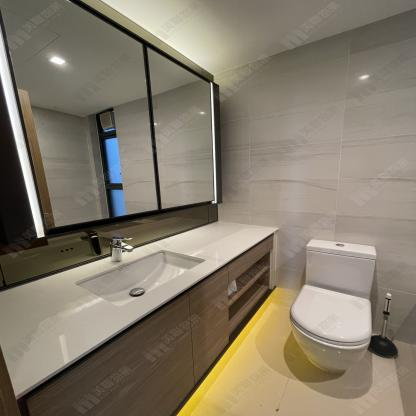Faucet: (108, 235, 134, 262)
Toilet: (289, 239, 377, 372)
Toilet Sink: (42, 241, 230, 326)
